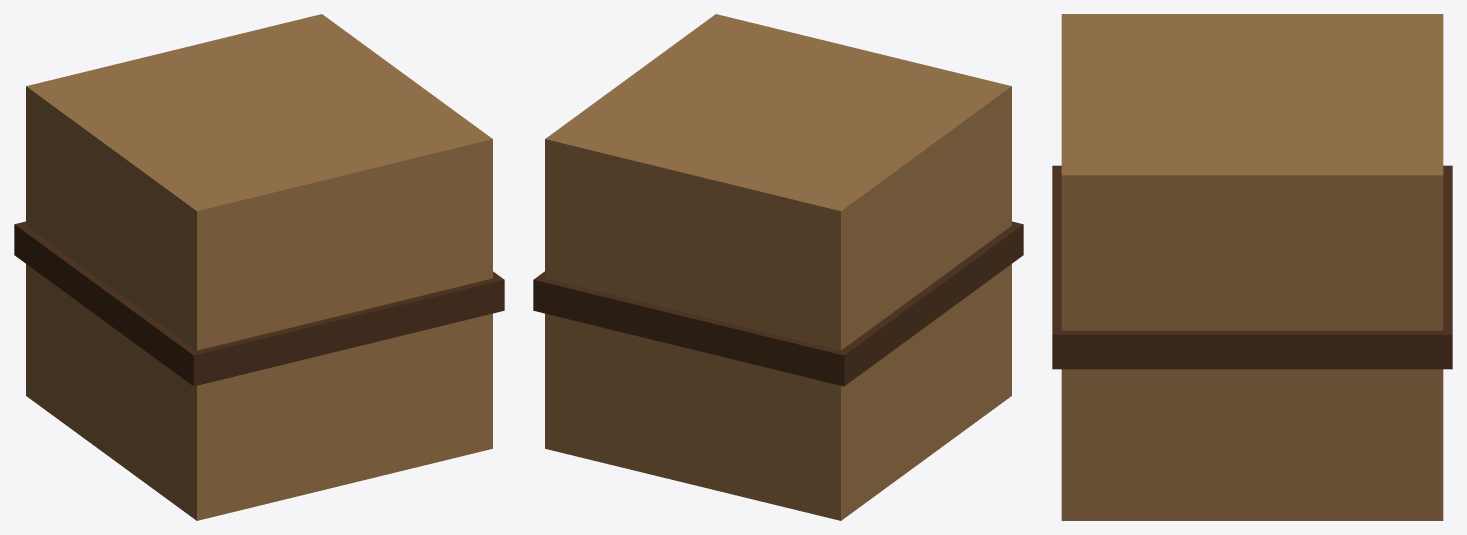
Rendered from crate.19ff9d96.glb.
3 views of the same model, side by side, from view 1: azimuth 30°, elevation 25°; view 2: azimuth 150°, elevation 25°; view 3: azimuth 270°, elevation 25° (orthographic). The views are drawn at different scales.
Visible parts, largest first — view 1: body; view 2: body; view 3: body.
Boxes of the visible parts, bbox=[...] form: body: bbox=[14, 14, 504, 520]; body: bbox=[533, 14, 1023, 520]; body: bbox=[1052, 14, 1452, 520].
Bounding box in the file's own units: 0.84 × 0.8 × 0.84.
